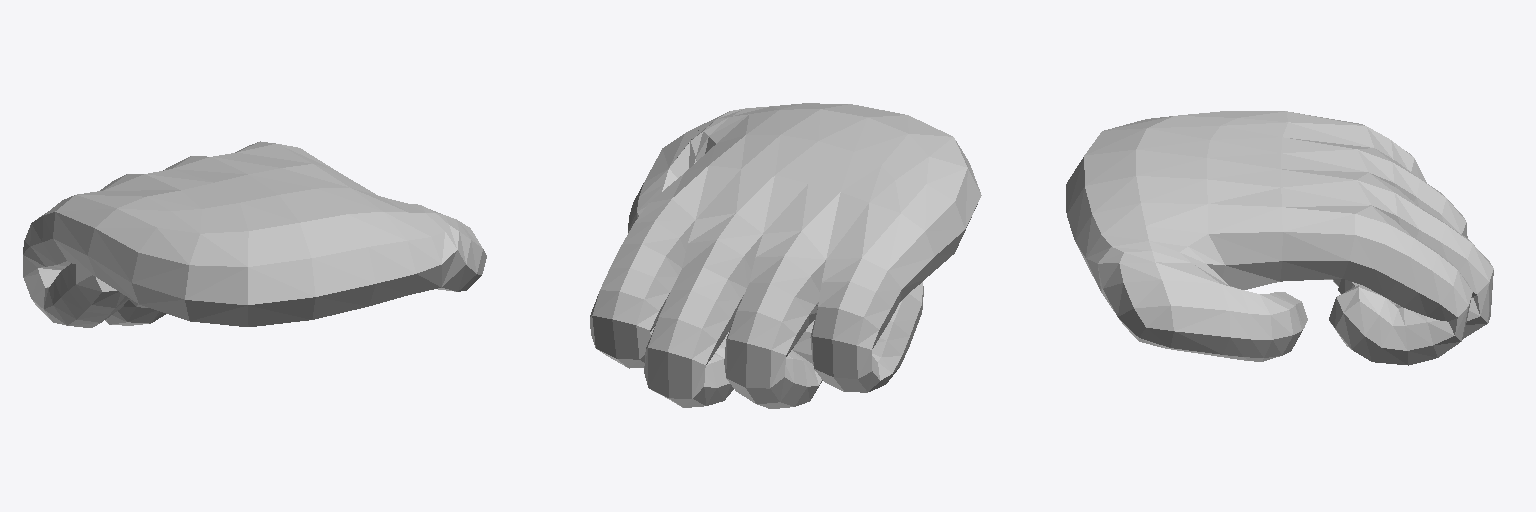
Rendered from 2023.10.23.hand.obj.
3 views of the same model, side by side, from view 1: azimuth 30°, elevation 25°; view 2: azimuth 150°, elevation 25°; view 3: azimuth 270°, elevation 25° (orthographic).
Visible parts, largest first — view 1: 立方体; view 2: 立方体; view 3: 立方体.
Part boxes in pixels (bbox=[...]): 立方体: bbox=[23, 141, 486, 327]; 立方体: bbox=[590, 103, 981, 408]; 立方体: bbox=[1066, 111, 1493, 365].
Bounding box in the file's own units: 1.55 × 0.8137 × 1.7.